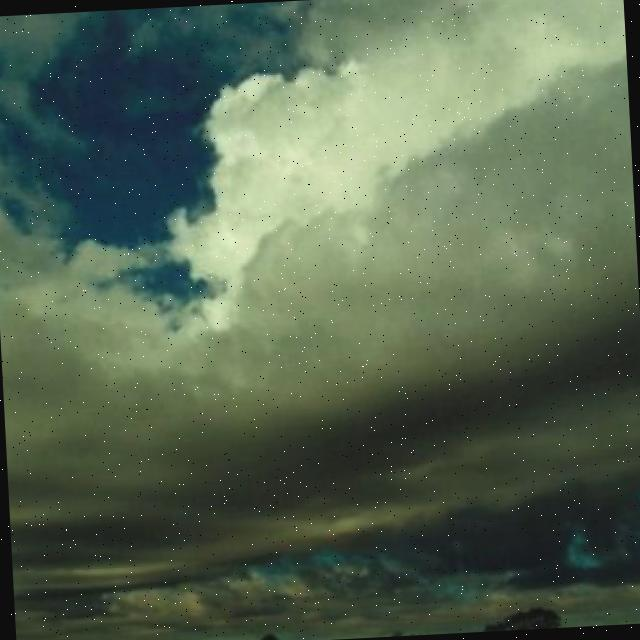Ac: (1, 1, 640, 457)
